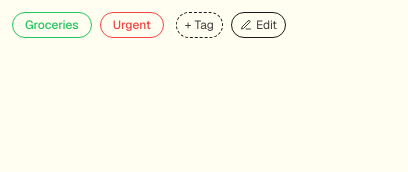
Test: TagFilter › shows edit and delete buttons when Edit mode is toggled
// Click the Edit mode toggle button
Click the button "Edit". click: (259, 25)
box: 231,12 -> 286,38
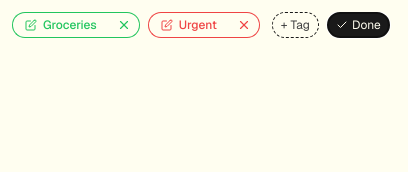
Expected: the number of buttons titled "Edit tag" is 2, 12,12 -> 109,38; 148,12 -> 229,38
Result: the number of buttons titled "Delete tag" is 2 at 109,12 -> 140,38; 229,12 -> 260,38
